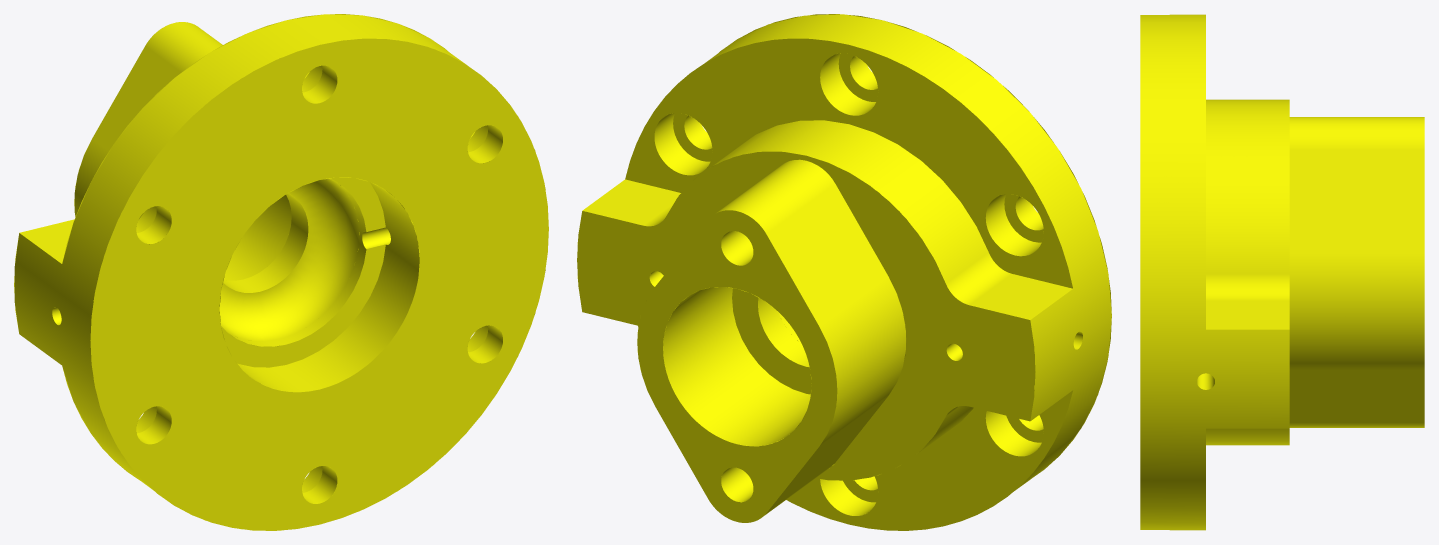
The picture shows the model from 3 angles, left to right: view 1: azimuth 30°, elevation 25°; view 2: azimuth 150°, elevation 25°; view 3: azimuth 270°, elevation 25°; orthographic projection. The views are drawn at different scales.
Visible parts, largest first — view 1: Part14.IGS (×22); view 2: Part14.IGS (×30); view 3: Part14.IGS (×12).
Boxes of the visible parts, x1,y1,x2,y2 form: Part14.IGS (×22): [14, 14, 548, 530]; Part14.IGS (×30): [577, 14, 1111, 530]; Part14.IGS (×12): [1140, 14, 1424, 530].
Size of the model in its own units: 0.071 by 0.071 by 0.039.
